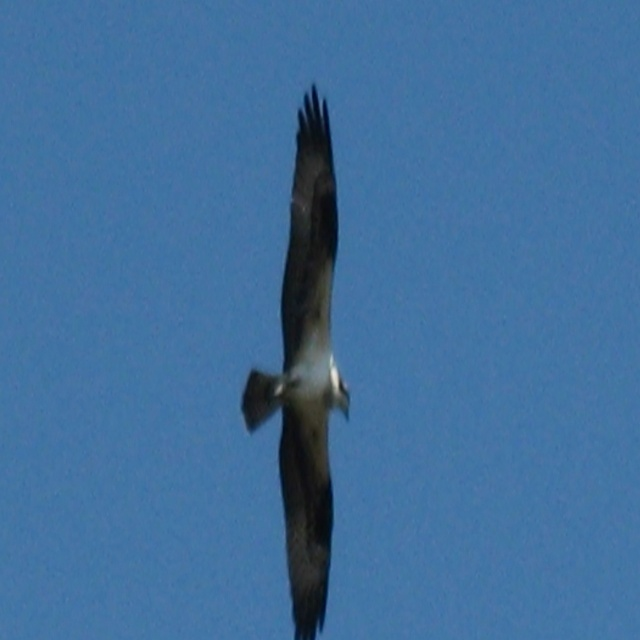Eagle: (238, 79, 356, 639)
